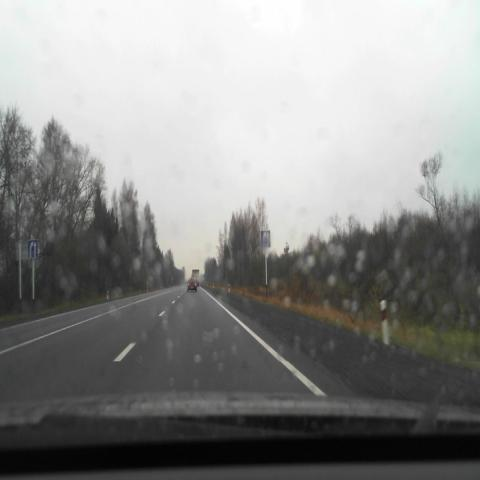5_15_5: (28, 239, 38, 258), (260, 230, 270, 247)
